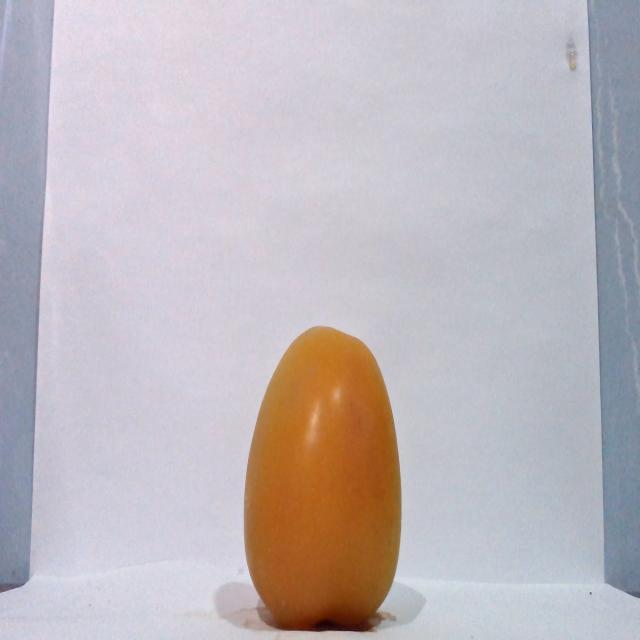Red: (241, 324, 403, 630)
